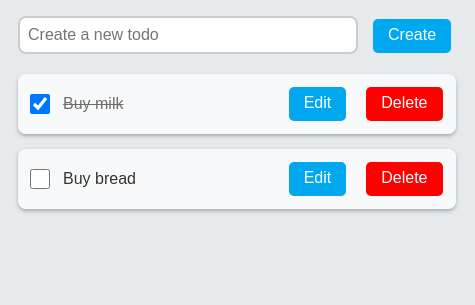
Test: TodoApp › deletes a todo
Type "something to delete" into the field with test id "inputField" at (188, 35), box [18,16,358,54]
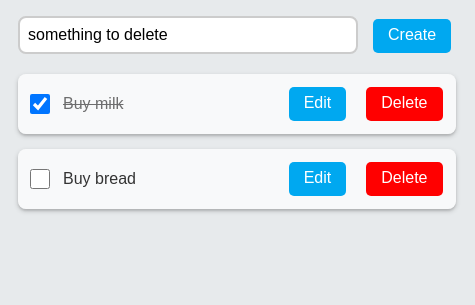
Click the button with test id "create-button" at (412, 36), box [373,19,451,53]
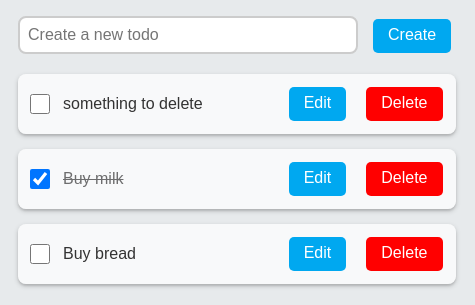
Click the button with test id "delete-button0" at (404, 104), box [366,87,443,121]
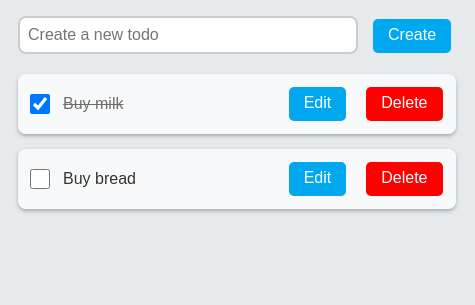
Now the number of elements with test id "parent-todo" is 2, box [63,95,124,112]; [63,170,136,187]
